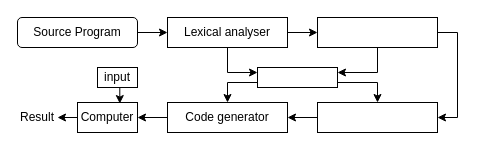
The diagram is 483 pixels wide and 150 high, and some of its shapes have lost their labels. Here are the shapes that lost their labels. From the top down, the centre of each, then its label:
At (377,32): "Syntax analyser".
At (297,77): "Symbol table".
At (377,117): "Semantic analyser".
